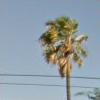Palm tree: (37, 9, 97, 99)
